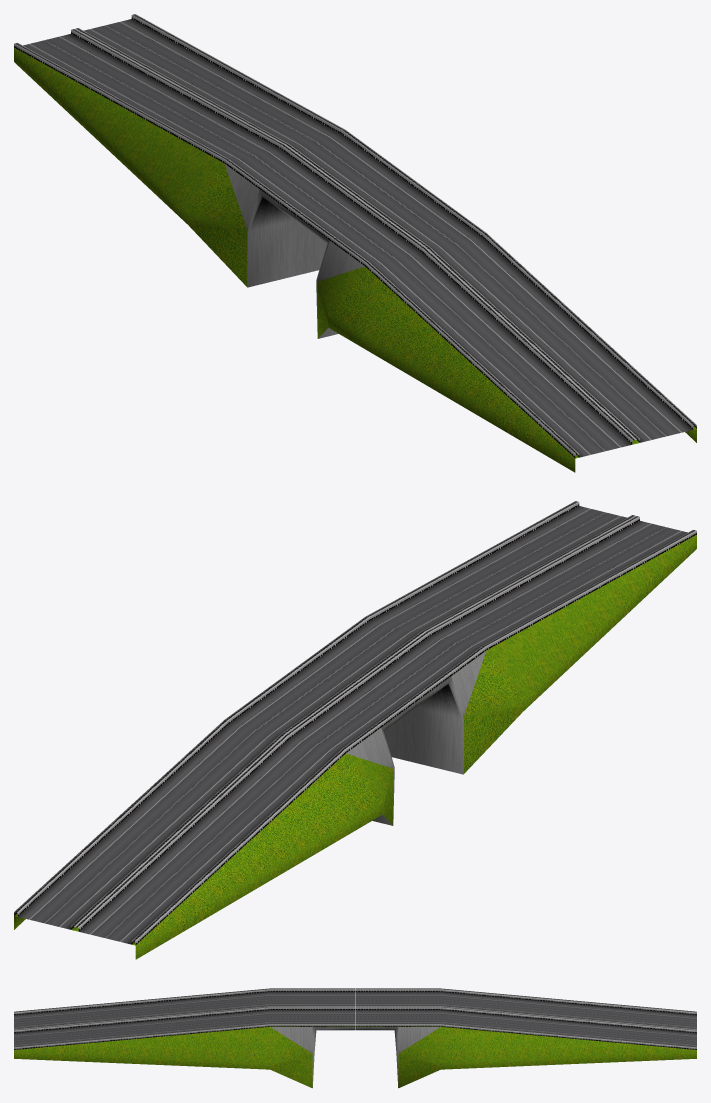
The model's file is brug_snelweg_1a.fbx.
3 views of the same model, one above another, from view 1: azimuth 30°, elevation 25°; view 2: azimuth 150°, elevation 25°; view 3: azimuth 270°, elevation 25° (orthographic). The views are drawn at different scales.
Parts seen in each view (by area): view 1: brug_snelweg_1a; view 2: brug_snelweg_1a; view 3: brug_snelweg_1a.
Part boxes in pixels (x1=…): brug_snelweg_1a: x1=14, y1=14, x2=696, y2=472; brug_snelweg_1a: x1=14, y1=501, x2=696, y2=959; brug_snelweg_1a: x1=14, y1=988, x2=696, y2=1088.
Size of the model in its own units: 3200 by 1563 by 16001.
